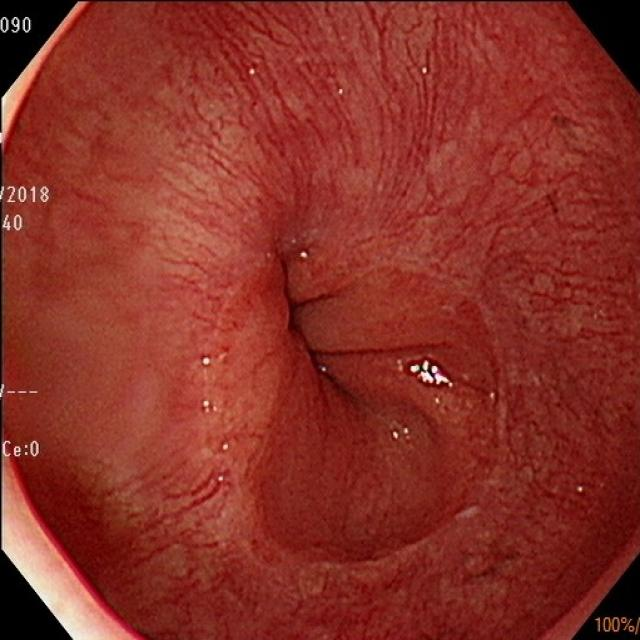I: (201, 231, 516, 573)
S: (3, 185, 53, 206), (594, 615, 640, 635), (2, 383, 41, 403), (4, 441, 41, 461), (2, 206, 25, 235), (2, 15, 34, 35)
U: (411, 358, 455, 391)
